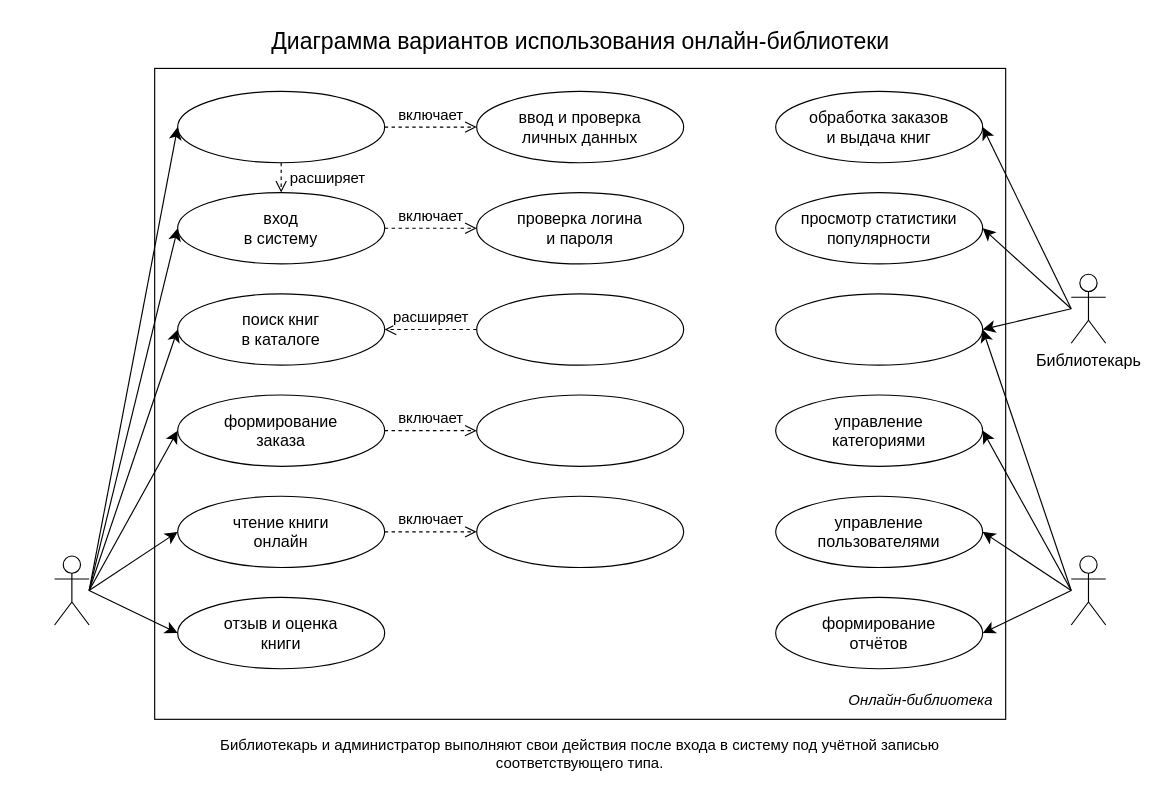
The diagram is 1166 pixels wide and 796 high, and some of its shapes have lost their labels. The box of each missing label's shape, as (x1, y1, x2, y2) in pixels:
Администратор: (1070, 555, 1106, 625)
выбор книг и срока выдачи: (476, 394, 684, 466)
добавление книг в каталог: (775, 293, 983, 365)
закладки и прогресс чтения: (476, 495, 684, 568)
Пользователь (читатель): (53, 555, 89, 625)
просмотр карточки книги: (476, 293, 684, 365)
регистрация (нет аккаунта): (177, 90, 385, 163)
